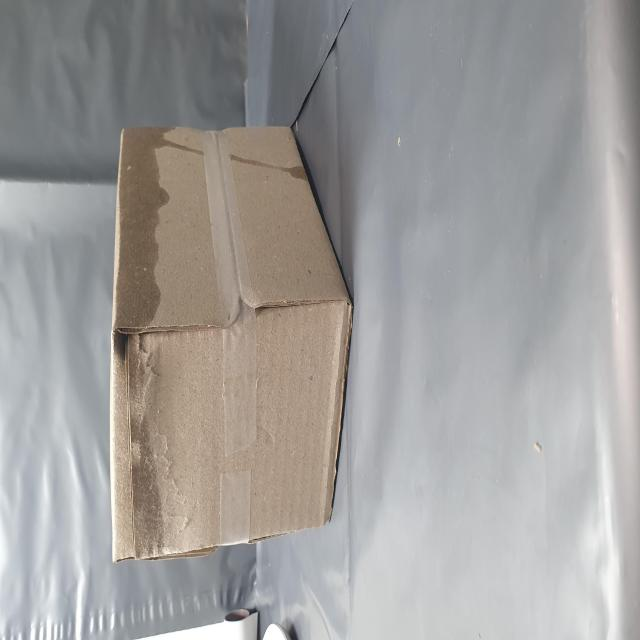wet: (51, 206, 292, 602)
